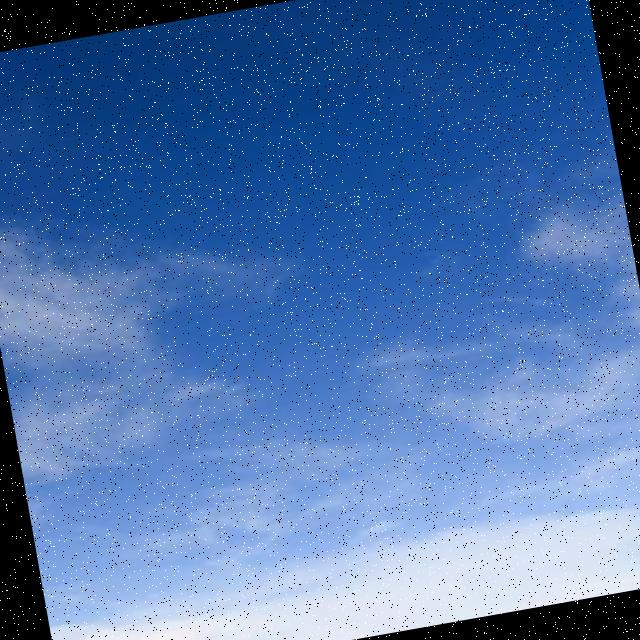Ci: (1, 18, 640, 640)
